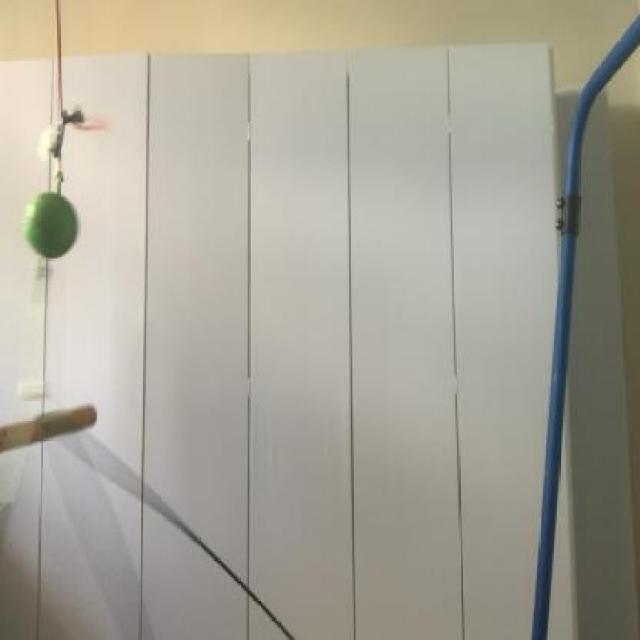baseball: (16, 180, 89, 266)
